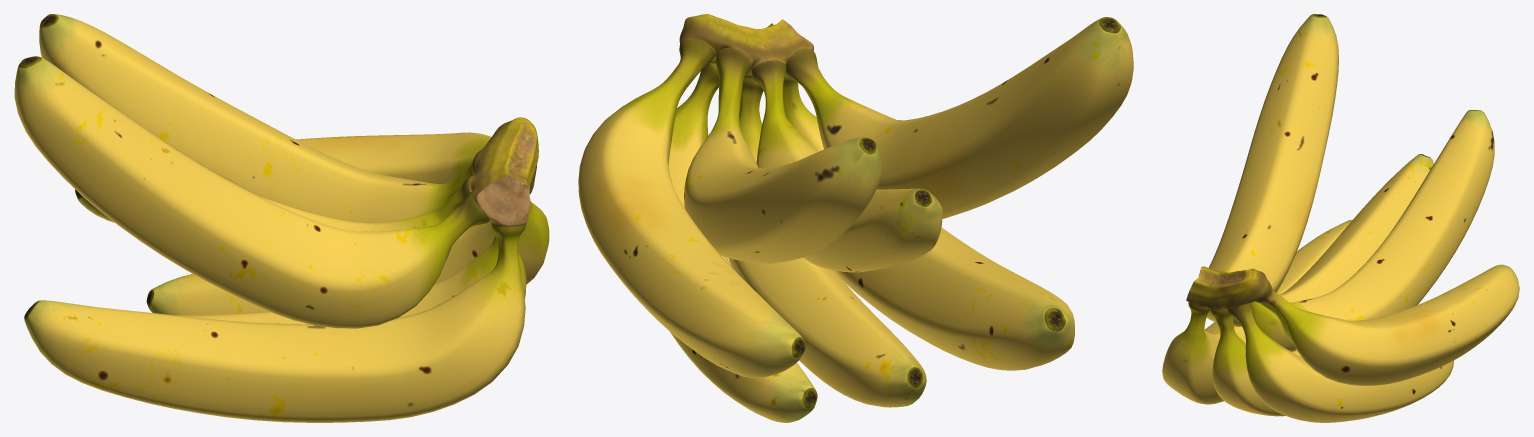
Rendered from banana.glb.
3 views of the same model, side by side, from view 1: azimuth 30°, elevation 25°; view 2: azimuth 150°, elevation 25°; view 3: azimuth 270°, elevation 25° (orthographic). The views are drawn at different scales.
Visible parts, largest first — view 1: Object_2; view 2: Object_2; view 3: Object_2.
Part boxes in pixels (bbox=[...]): Object_2: bbox=[14, 14, 549, 422]; Object_2: bbox=[578, 14, 1133, 422]; Object_2: bbox=[1162, 14, 1519, 422].
Bounding box in the file's own units: 2.11 × 1.57 × 1.77.
1 material, 1 textured.
